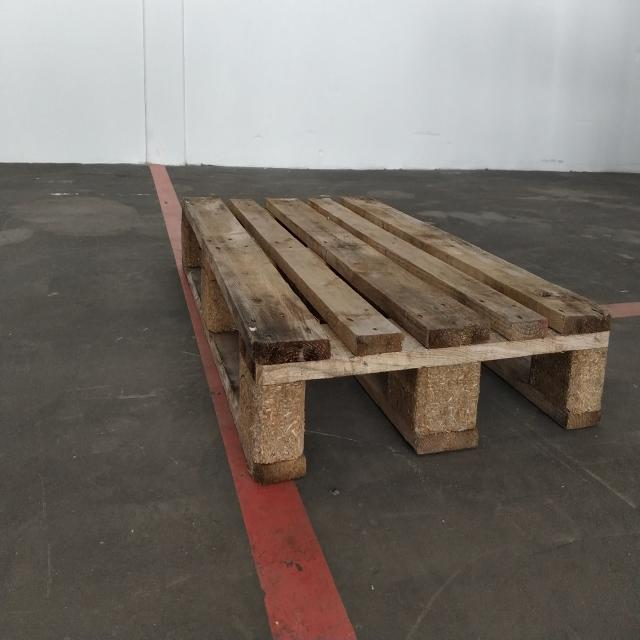block: (413, 329, 484, 454), (250, 339, 312, 481), (565, 312, 613, 430)
front: (257, 314, 614, 482)
